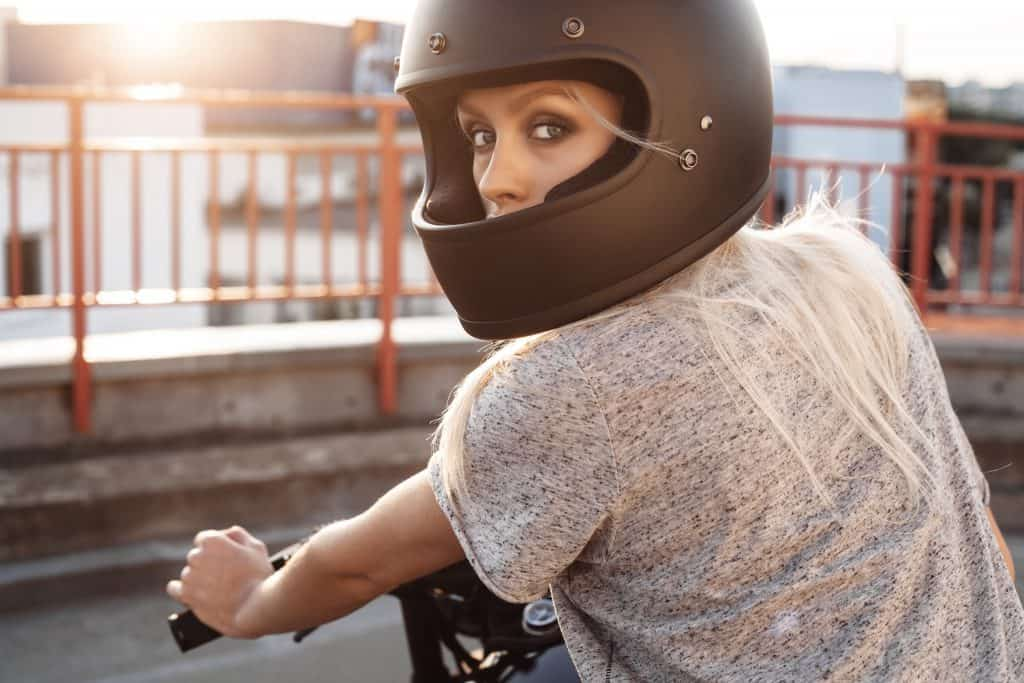with_helmet: (381, 1, 795, 343)
